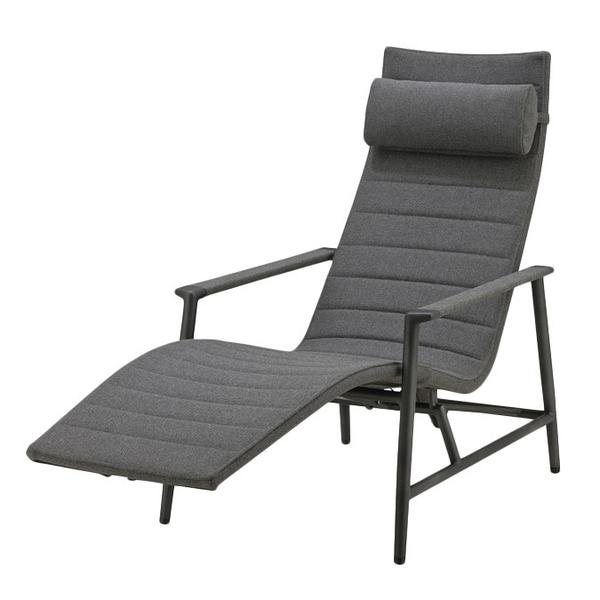chairs: (27, 45, 561, 567)
